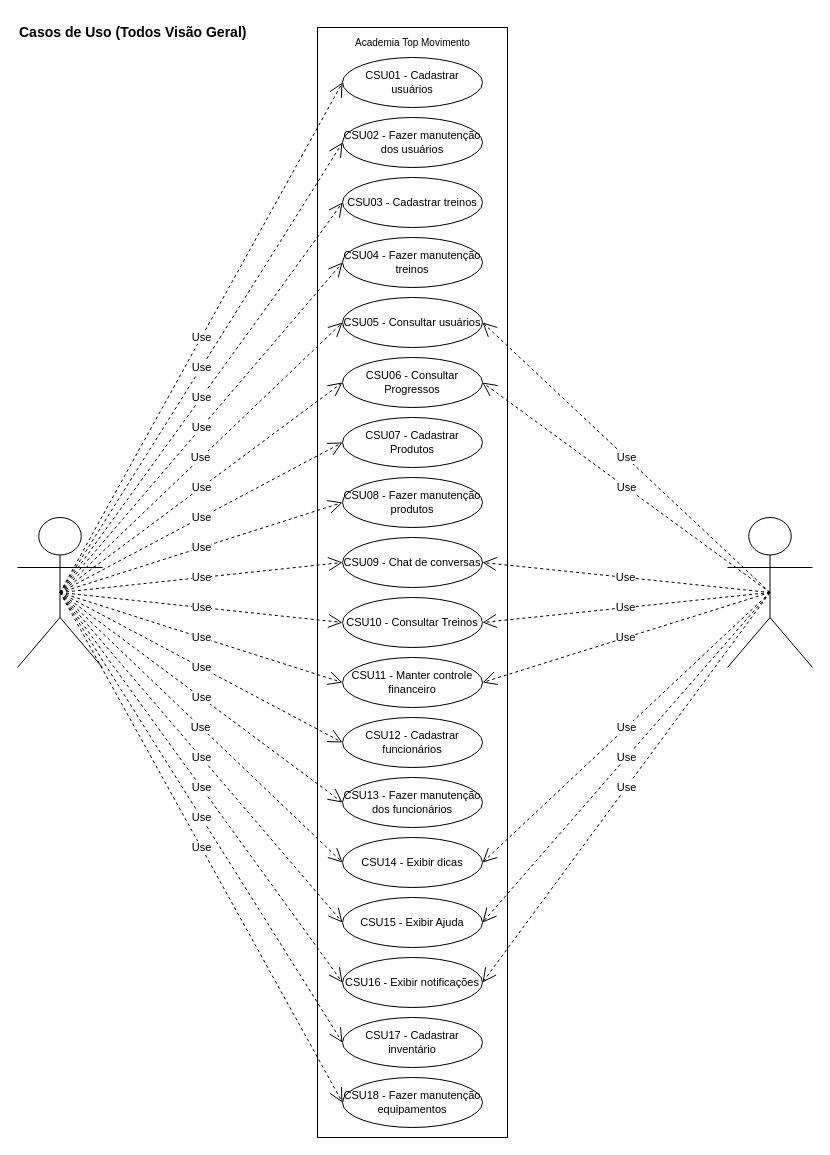
Some shapes in this 830 by 1155 pixel diagram are drawn without their labels. The shapes that lost their labels are listed below. From the top down, each one's centre as x and y in pixels, then its label:
At pixel 59 592: "Administrador".
At pixel 769 592: "Usuário".
